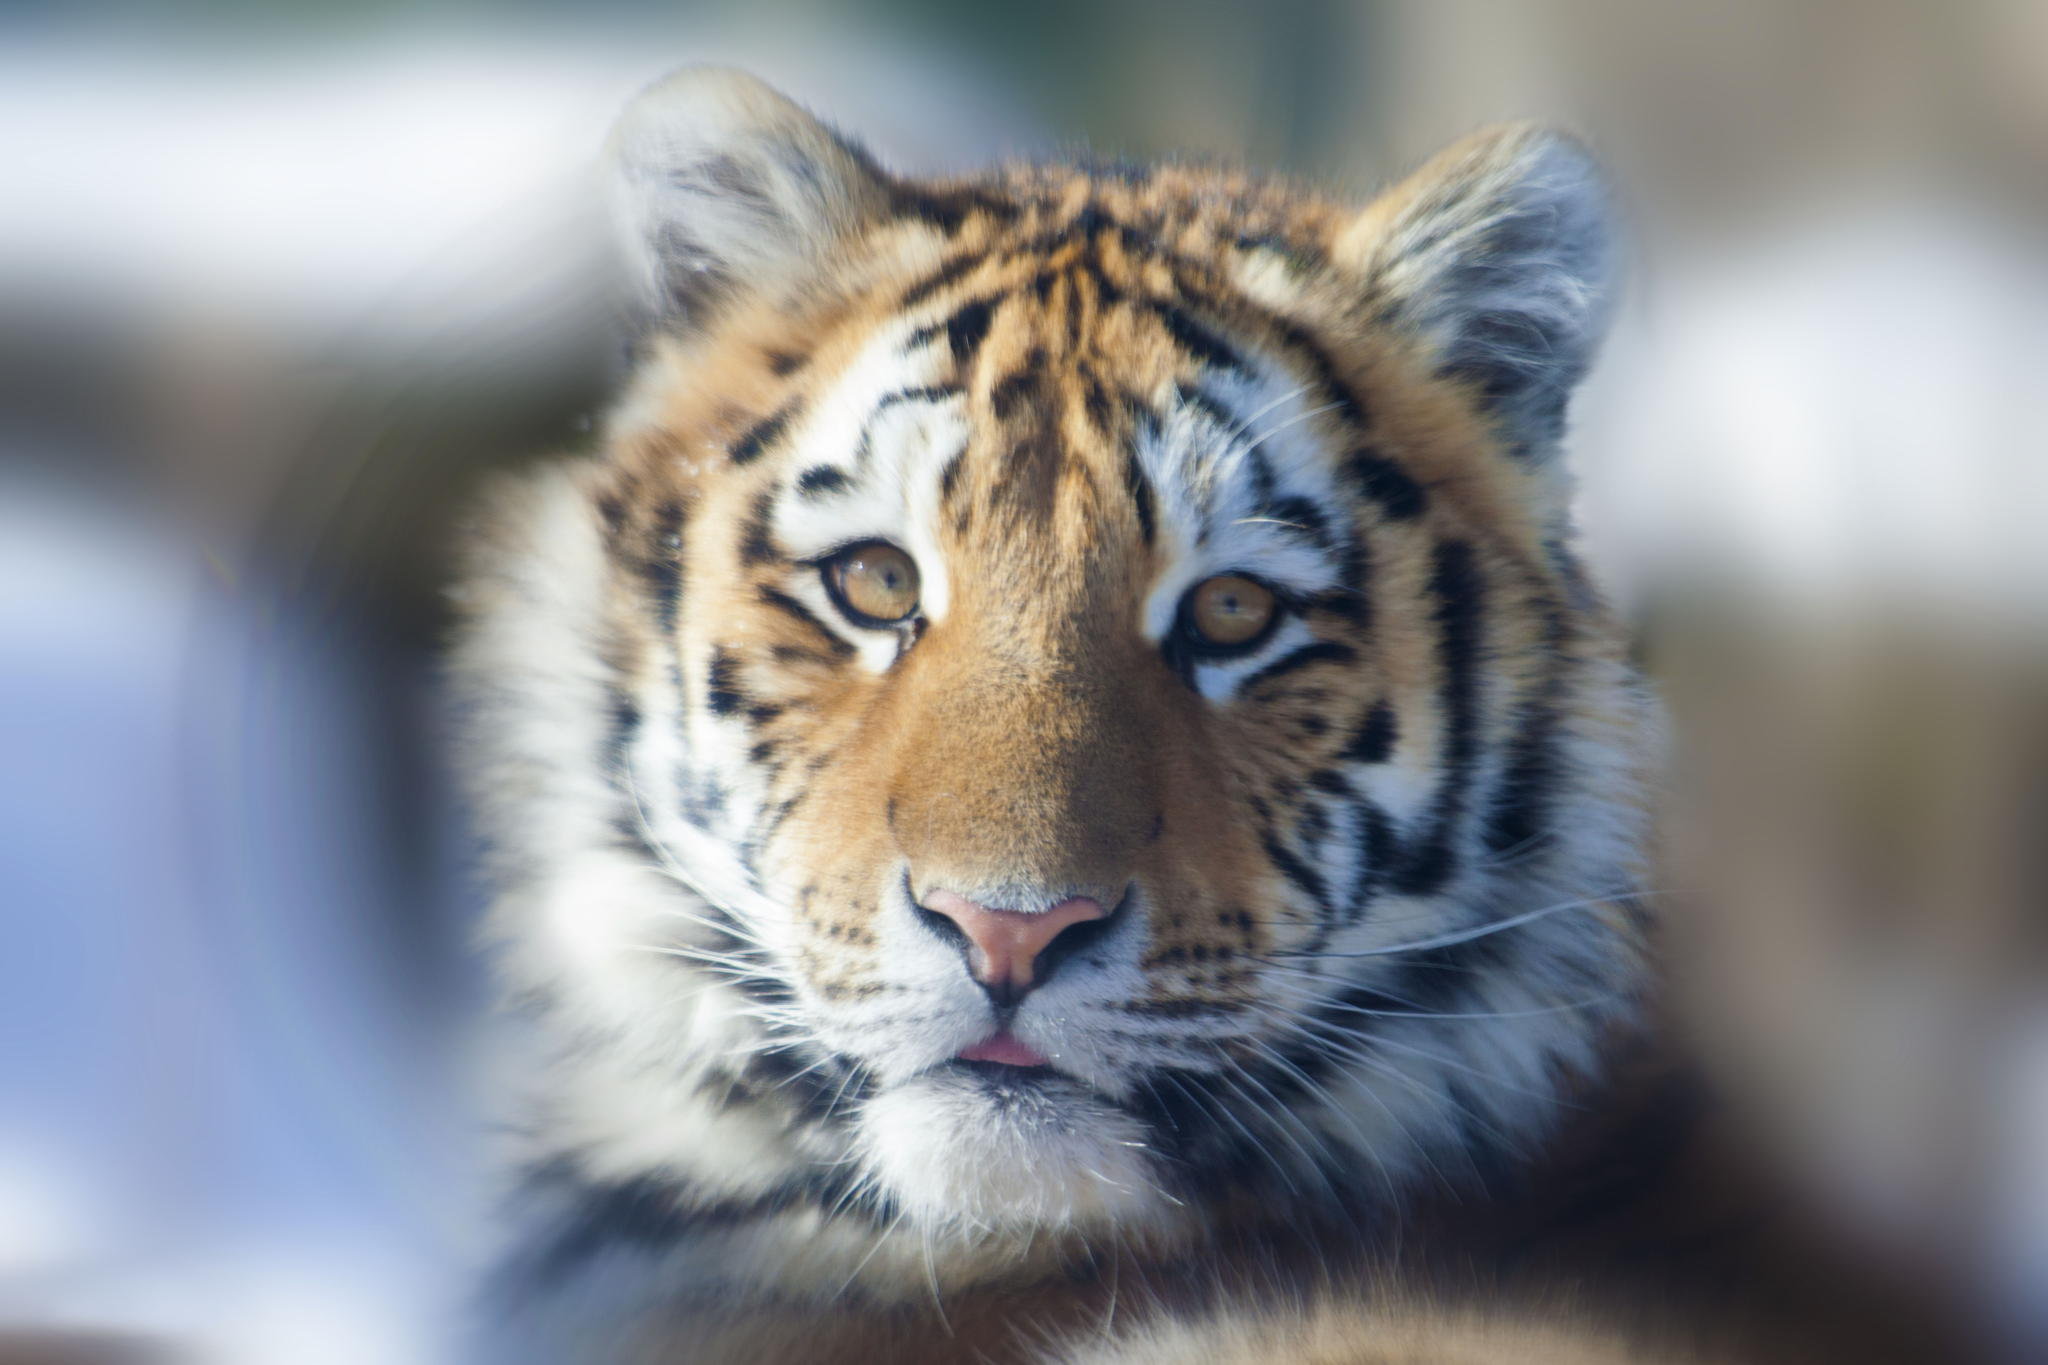tiger: (544, 70, 1651, 1226)
